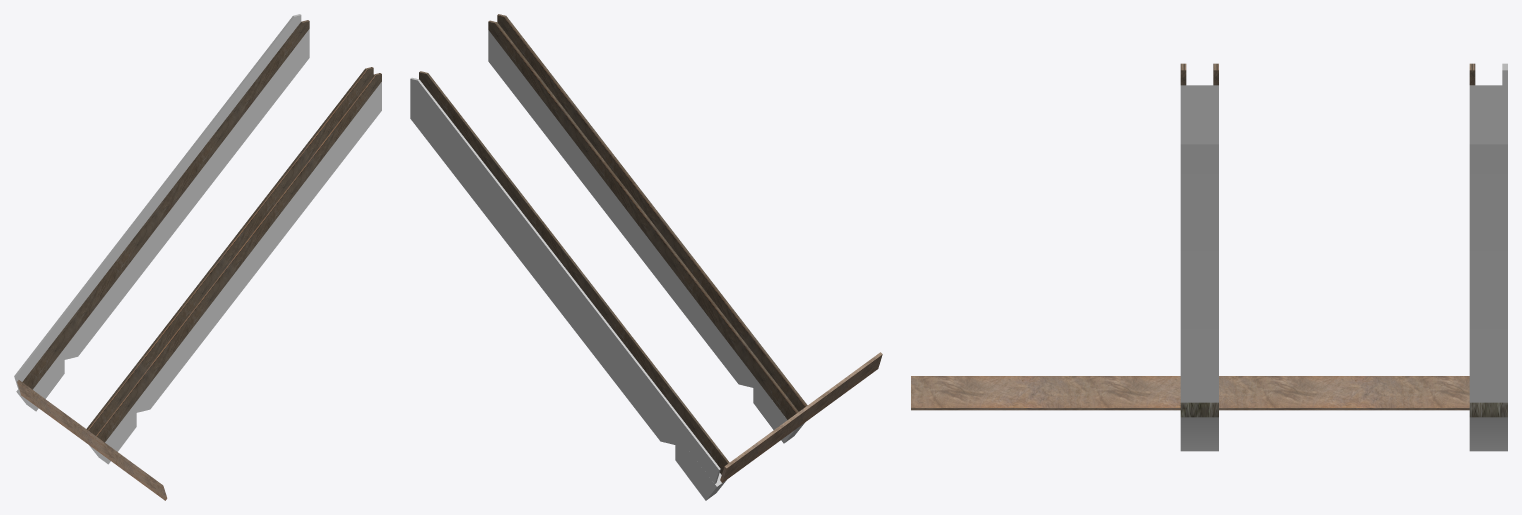
File: RafterMidEMirror.fbx
3 renders of one model, left to right at view 1: azimuth 30°, elevation 25°; view 2: azimuth 150°, elevation 25°; view 3: azimuth 270°, elevation 25°, orthographic. The views are drawn at different scales.
Parts seen in each view (by area): view 1: RafterMidEMirror; view 2: RafterMidEMirror; view 3: RafterMidEMirror.
Part boxes in pixels (x1,y1,x2,y2): RafterMidEMirror: (14,14,381,500); RafterMidEMirror: (410,14,882,500); RafterMidEMirror: (911,63,1507,451).
Size of the model in its own units: 465 by 500 by 418.
